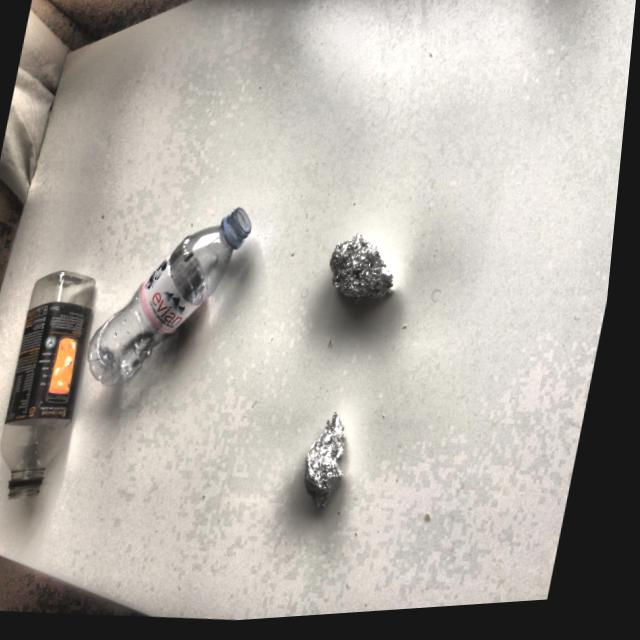Bottles: (81, 191, 265, 411), (0, 255, 112, 517)
